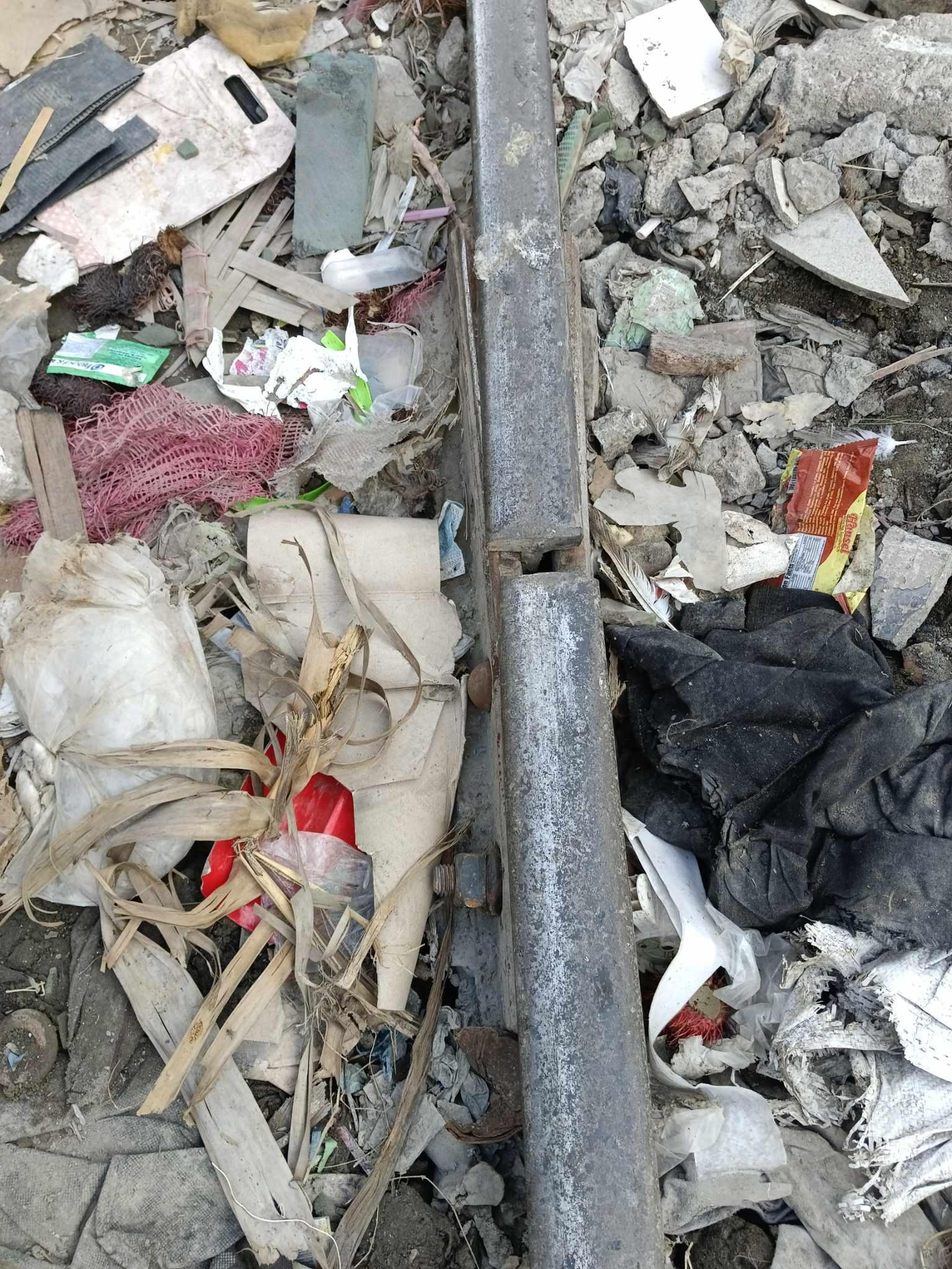railway-gap: (440, 466, 622, 657)
